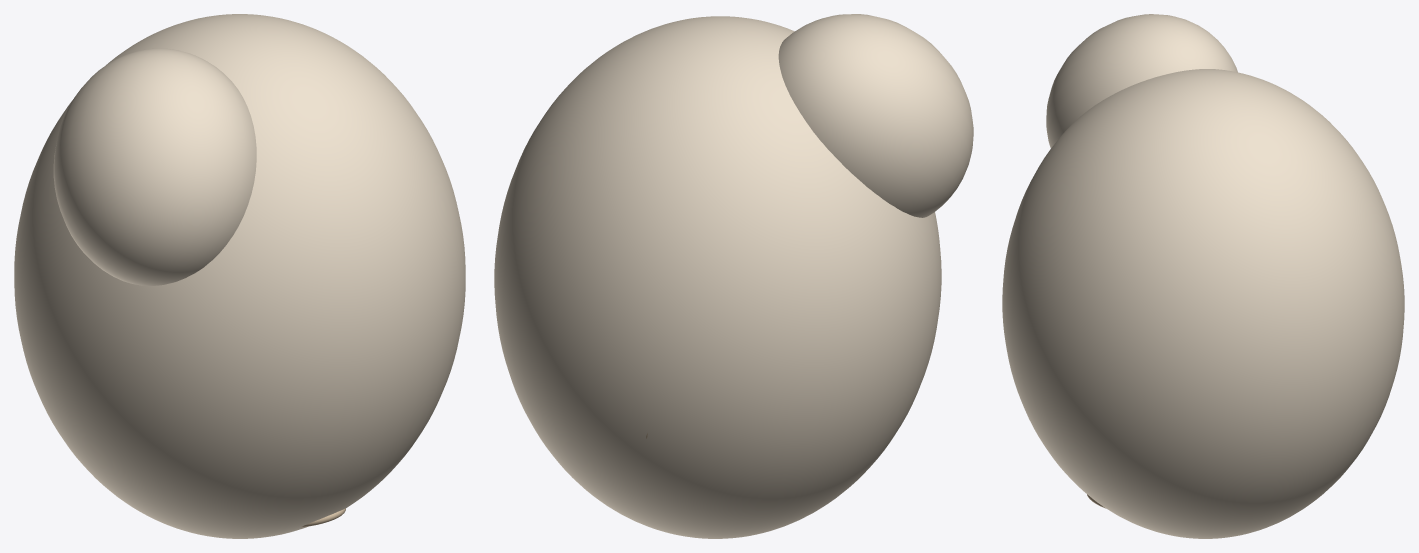
Rendered from yeast_fungi.glb.
3 renders of one model, left to right at view 1: azimuth 30°, elevation 25°; view 2: azimuth 150°, elevation 25°; view 3: azimuth 270°, elevation 25°, orthographic. The views are drawn at different scales.
Size of the model in its own units: 3.09 by 3.73 by 3.
